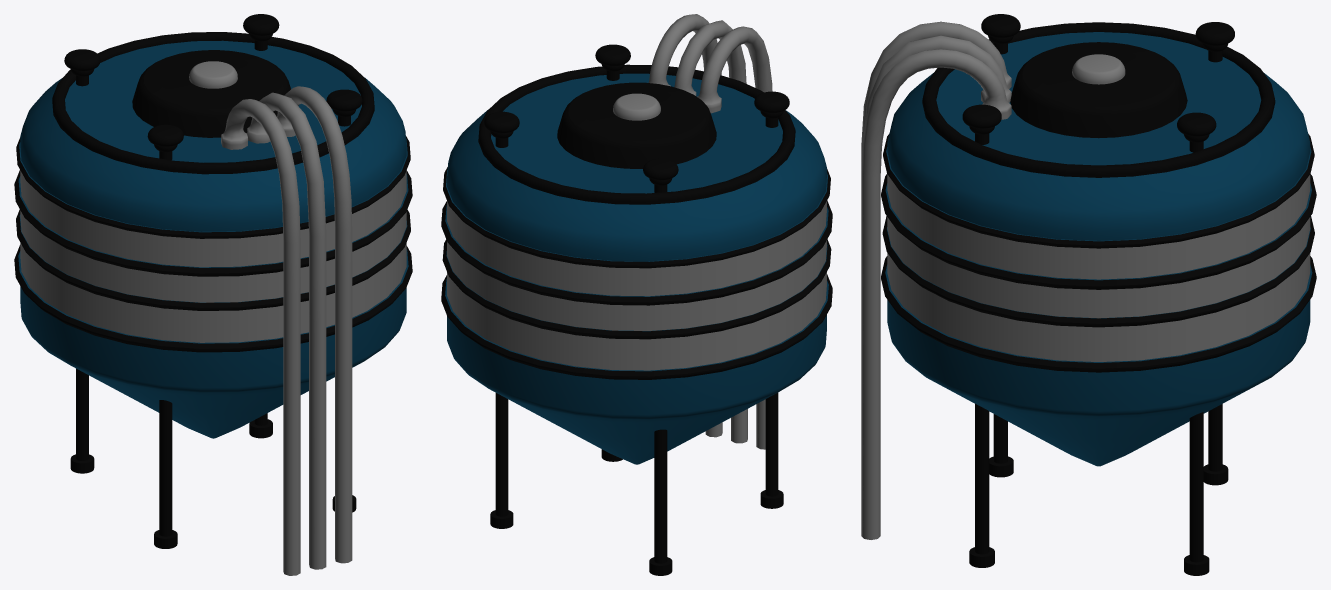
The model's file is water_tower_2.fbx.
3 views of the same model, side by side, from view 1: azimuth 30°, elevation 25°; view 2: azimuth 150°, elevation 25°; view 3: azimuth 270°, elevation 25° (orthographic). The views are drawn at different scales.
Parts seen in each view (by area): view 1: Circle.030, BezierCurve.001, Cylinder.012, Cylinder.013; view 2: Circle.030, BezierCurve.001, Cylinder.012, Cylinder.013; view 3: Circle.030, BezierCurve.001, Cylinder.013, Cylinder.012.
Boxes of the visible parts, x1,y1,x2,y2 form: Circle.030: [14, 32, 412, 438]; BezierCurve.001: [221, 86, 352, 575]; Cylinder.012: [147, 14, 279, 548]; Cylinder.013: [64, 49, 362, 512]; Circle.030: [441, 64, 832, 464]; BezierCurve.001: [648, 14, 772, 449]; Cylinder.012: [484, 91, 789, 528]; Cylinder.013: [595, 44, 678, 575]; Circle.030: [881, 22, 1316, 466]; BezierCurve.001: [861, 21, 1011, 539]; Cylinder.013: [962, 22, 1234, 567]; Cylinder.012: [981, 14, 1216, 575].
Bounding box in the file's own units: 430 × 530 × 449.
